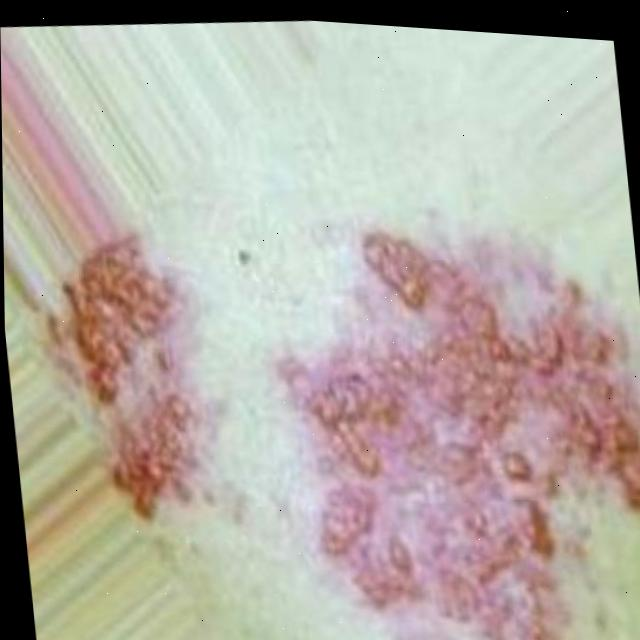Shingles: (257, 195, 640, 640), (35, 225, 210, 530)
